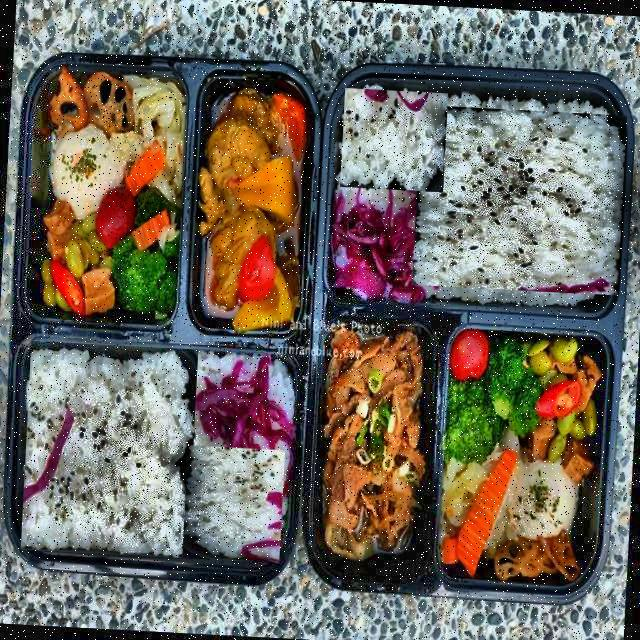Food: (418, 99, 622, 302), (20, 340, 198, 558), (178, 449, 289, 560), (339, 86, 448, 192)
